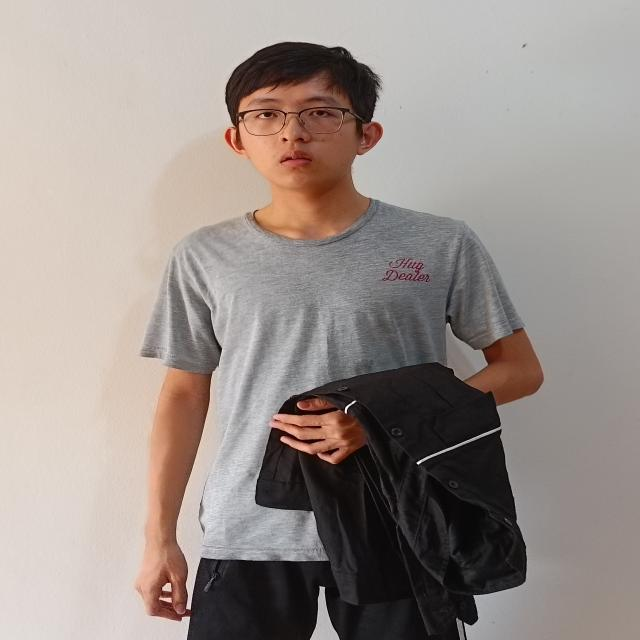person_without_labcoat: (135, 42, 543, 640)
